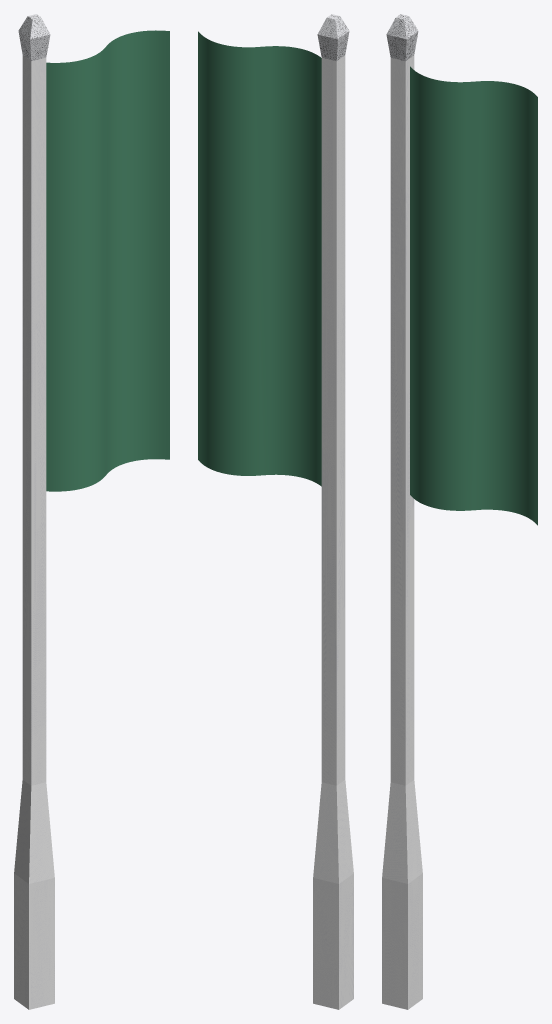
Rendered from flag-green.dae.
3 views of the same model, side by side, from view 1: azimuth 30°, elevation 25°; view 2: azimuth 150°, elevation 25°; view 3: azimuth 330°, elevation 25° (orthographic).
Parts seen in each view (by area): view 1: flagGreen, Group; view 2: flagGreen, Group; view 3: flagGreen, Group.
Boxes of the visible parts, box(x1,y1,x2,y2) form: flagGreen: box(46, 30, 169, 491); Group: box(14, 14, 54, 1009); flagGreen: box(198, 31, 321, 486); Group: box(313, 14, 353, 1009); flagGreen: box(410, 66, 537, 525); Group: box(382, 14, 422, 1009).
Bounding box in the file's own units: 0.1972 × 1.25 × 0.0352.
